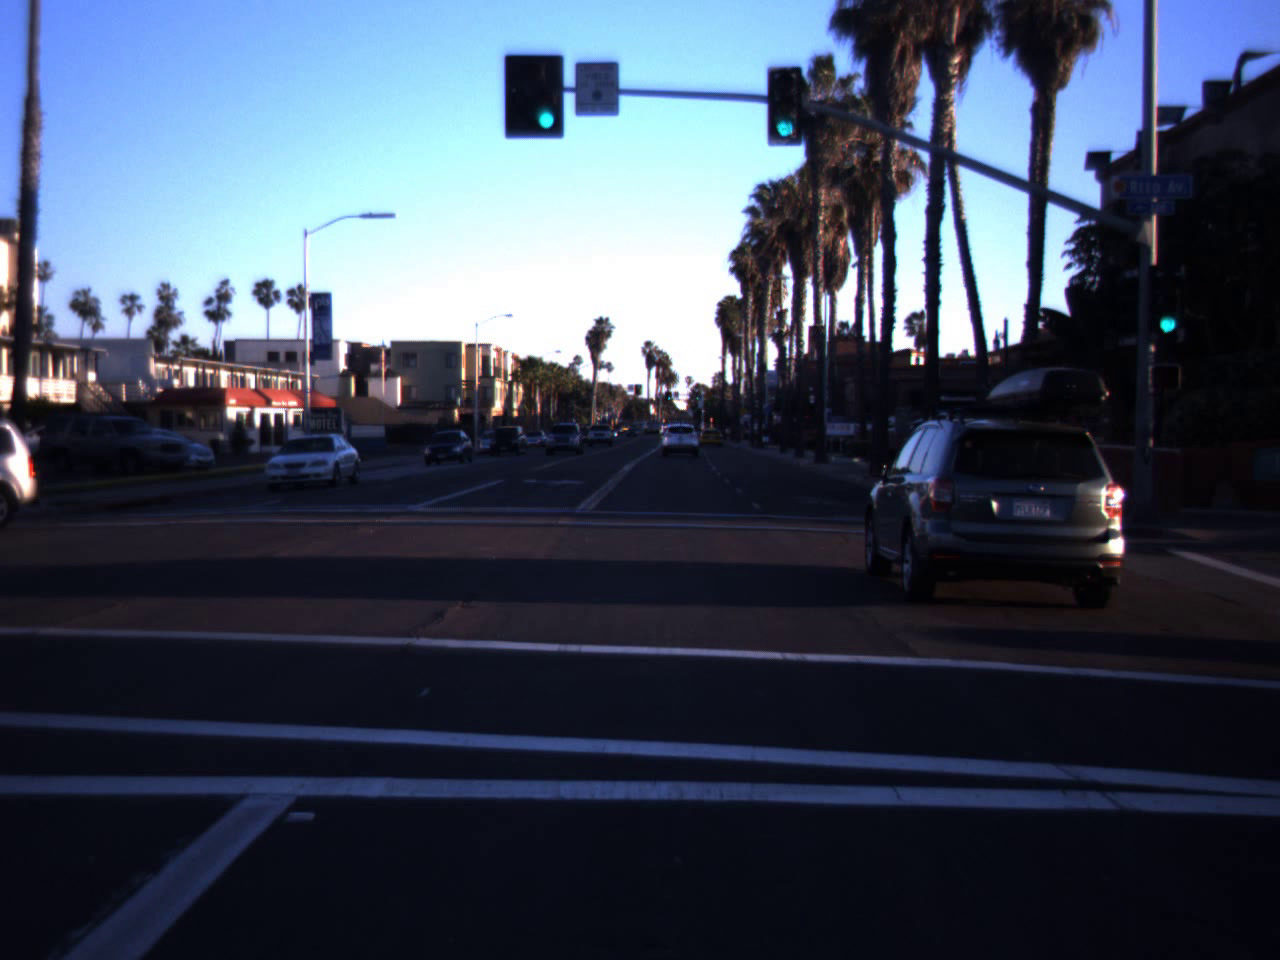go: (527, 61, 566, 135), (1148, 278, 1187, 338), (770, 85, 797, 140)
